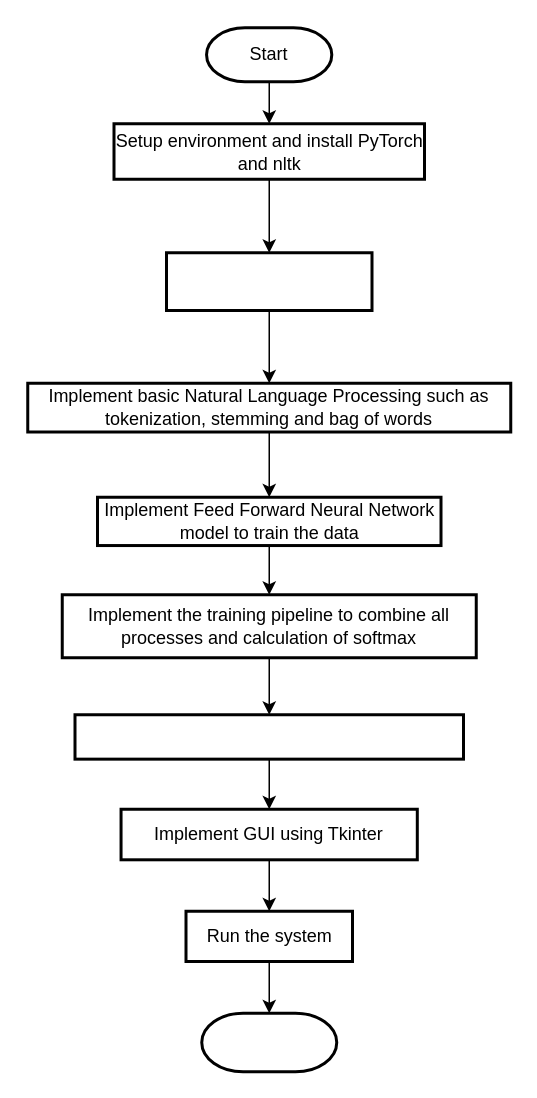
Some shapes in this 537 by 1098 pixel diagram are drawn without their labels. The box of each missing label's shape, as (x1, y1, x2, y2) in pixels:
Create training data: (164, 250, 373, 311)
Implement the responding chat functionality: (73, 712, 464, 760)
Stop: (200, 1011, 338, 1072)
